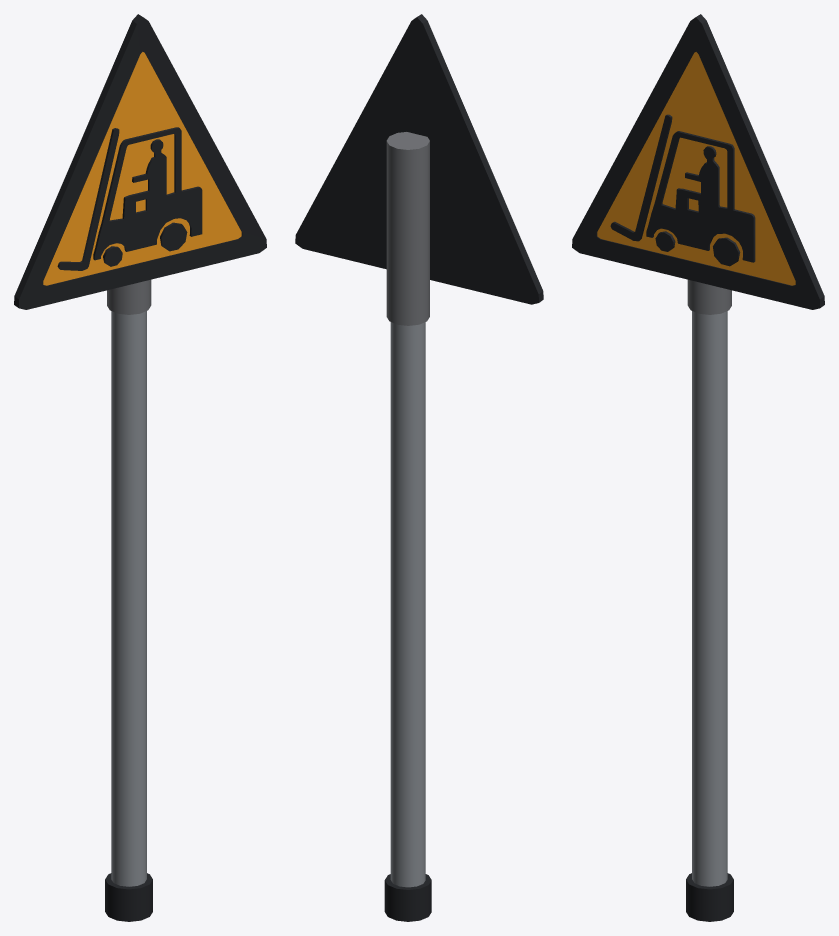
File: TrafficSign_7.fbx
3 renders of one model, left to right at view 1: azimuth 30°, elevation 25°; view 2: azimuth 150°, elevation 25°; view 3: azimuth 330°, elevation 25°, orthographic.
Visible parts, largest first — view 1: TrafficSign_7; view 2: TrafficSign_7; view 3: TrafficSign_7.
Boxes of the visible parts, x1,y1,x2,y2 form: TrafficSign_7: (14,14,266,921); TrafficSign_7: (295,14,543,921); TrafficSign_7: (572,14,824,921).
Bounding box in the file's own units: 60.54 × 211 × 11.42.
